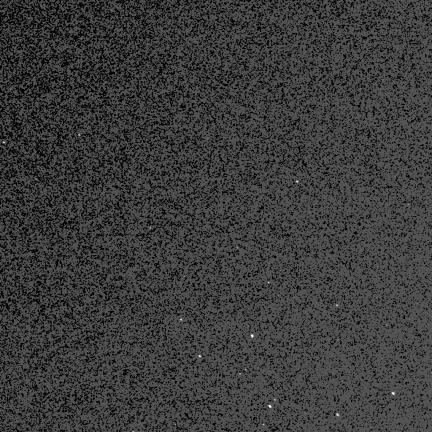blob: (392, 392, 396, 396), (336, 413, 340, 417), (268, 405, 272, 409), (199, 355, 202, 358), (251, 335, 254, 338), (336, 304, 339, 307), (268, 282, 270, 285), (180, 319, 183, 321), (297, 181, 299, 184)
